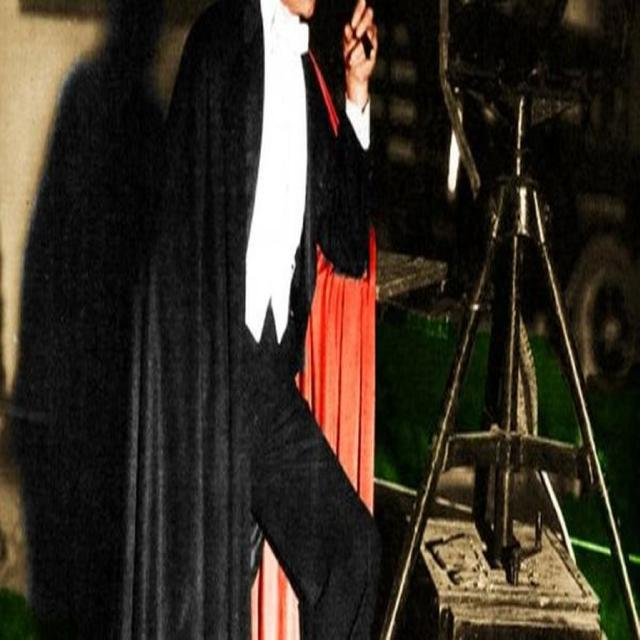smoking: (332, 13, 408, 95)
